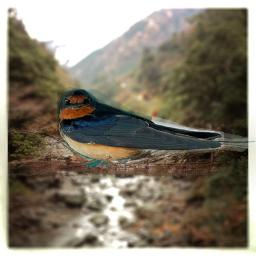Swallow: (53, 85, 256, 167)
